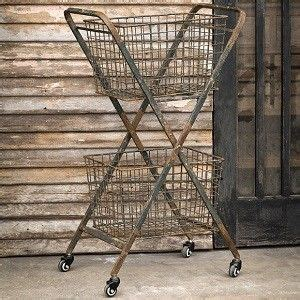Carts: (58, 3, 247, 296)
